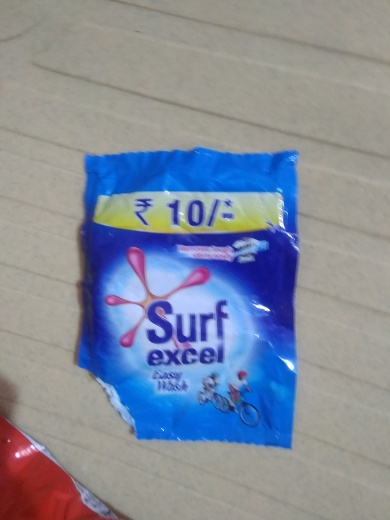surf: (74, 137, 318, 450)
